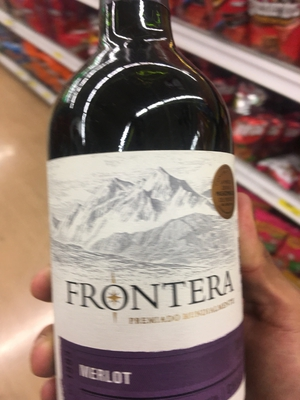frontera merlot: (37, 27, 255, 400)
